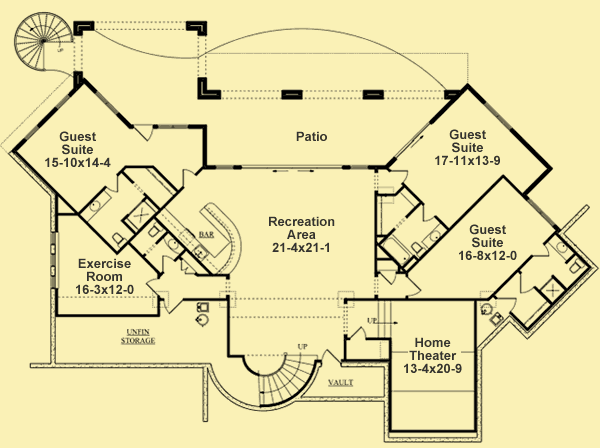door: (130, 124, 155, 144), (517, 269, 536, 295), (404, 276, 423, 298), (498, 295, 518, 314), (143, 277, 160, 298), (180, 165, 195, 188), (380, 270, 401, 286), (158, 252, 174, 272), (389, 167, 409, 182), (531, 244, 552, 258), (421, 204, 436, 223), (105, 176, 120, 194), (350, 327, 365, 342)
large_sink: (409, 239, 429, 259), (145, 220, 165, 239), (110, 231, 129, 250), (567, 257, 585, 275)
stairs: (257, 343, 323, 412), (13, 10, 73, 72)
tub: (385, 235, 410, 264)
windows: (49, 230, 58, 289)
